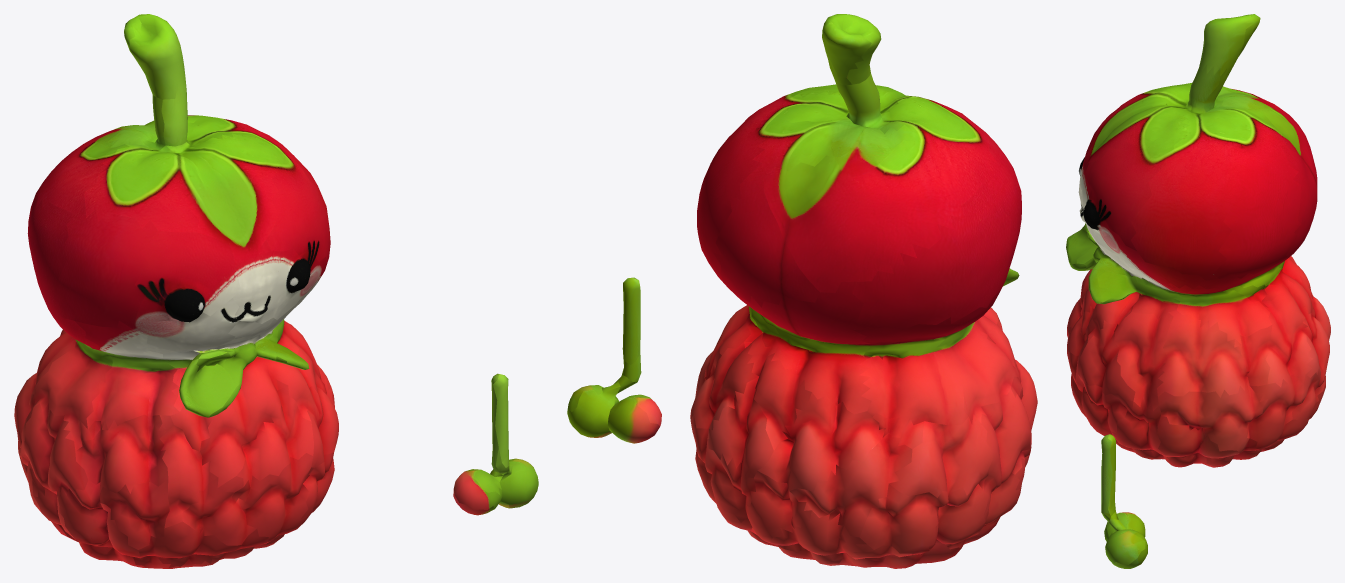
File: s1_quality_sticky_berry.glb
3 renders of one model, left to right at view 1: azimuth 30°, elevation 25°; view 2: azimuth 150°, elevation 25°; view 3: azimuth 270°, elevation 25°, orthographic. The views are drawn at different scales.
Bounding box in the file's own units: 1.77 × 1.91 × 1.06.
Materials: 1 (1 with a texture image).
